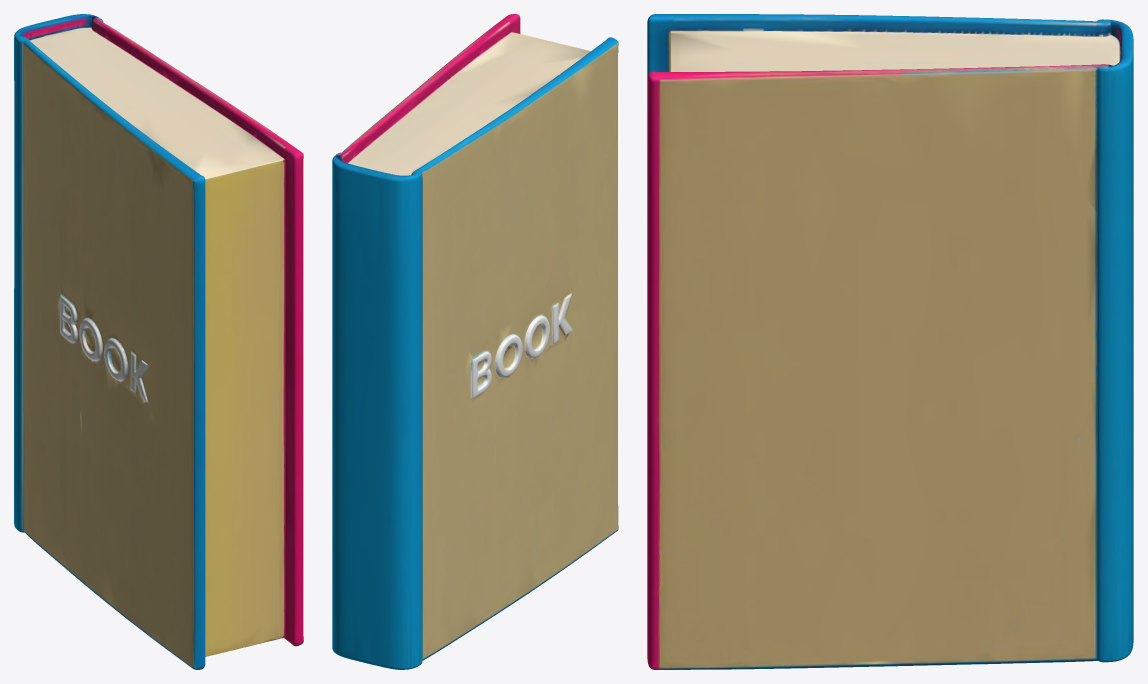
The picture shows the model from 3 angles, left to right: view 1: azimuth 30°, elevation 25°; view 2: azimuth 150°, elevation 25°; view 3: azimuth 270°, elevation 25°; orthographic projection. The views are drawn at different scales.
Visible parts, largest first — view 1: node_0; view 2: node_0; view 3: node_0.
Boxes of the visible parts, x1,y1,x2,y2 form: node_0: (14, 14, 303, 669); node_0: (332, 14, 618, 669); node_0: (647, 14, 1133, 669).
Size of the model in its own units: 0.2257 by 0.957 by 0.7084.
Materials: 1 (1 with a texture image).
